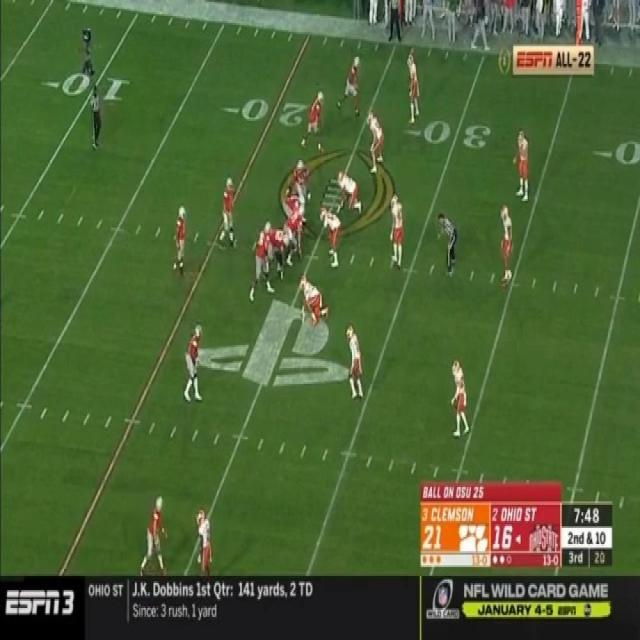center: (289, 199, 307, 260)
db: (449, 359, 472, 441), (498, 204, 516, 289), (345, 326, 364, 399), (194, 511, 213, 577), (514, 133, 531, 203), (408, 55, 421, 119)
lb: (368, 112, 386, 167), (389, 197, 402, 267)
qb: (221, 180, 236, 242)
